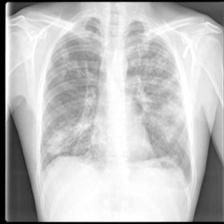tuberculosis: (34, 13, 196, 188)
